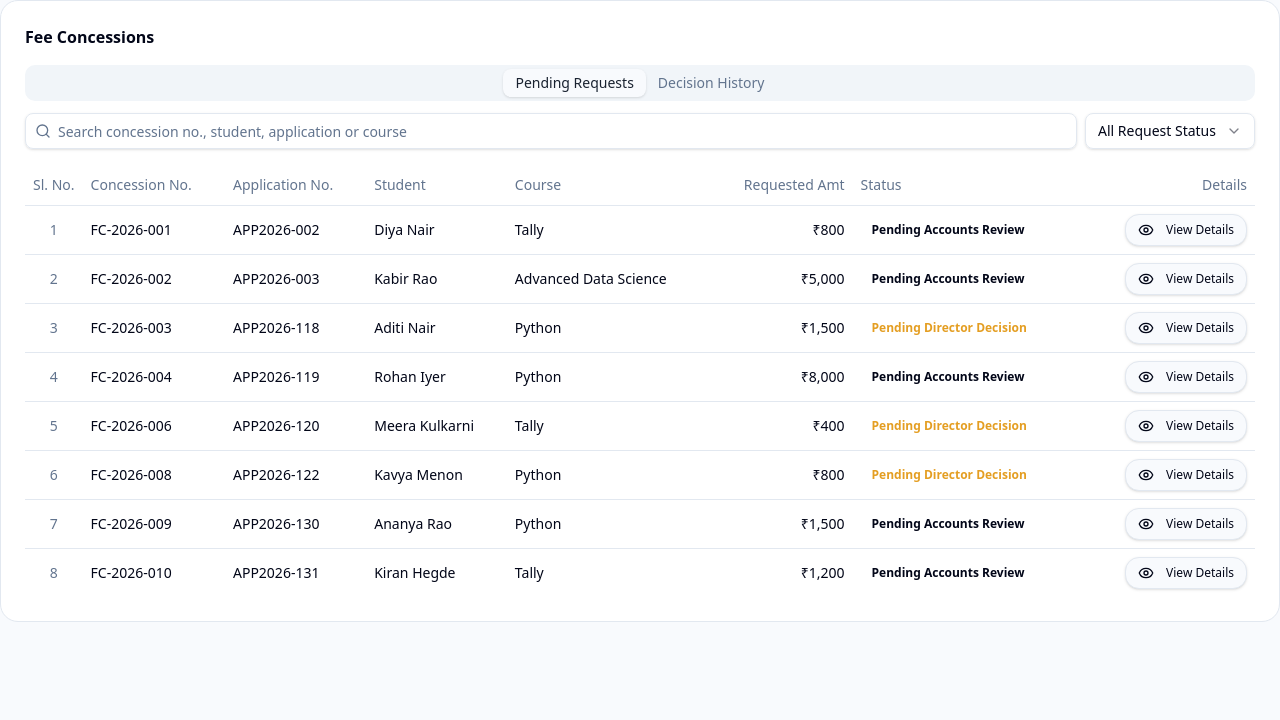
Scenario: Fee Concessions UI › shows Director decisions, requested and approved amounts, and comments in history
Press the mouse on the tab "Decision History" at (711, 83), box [646,69,776,97]
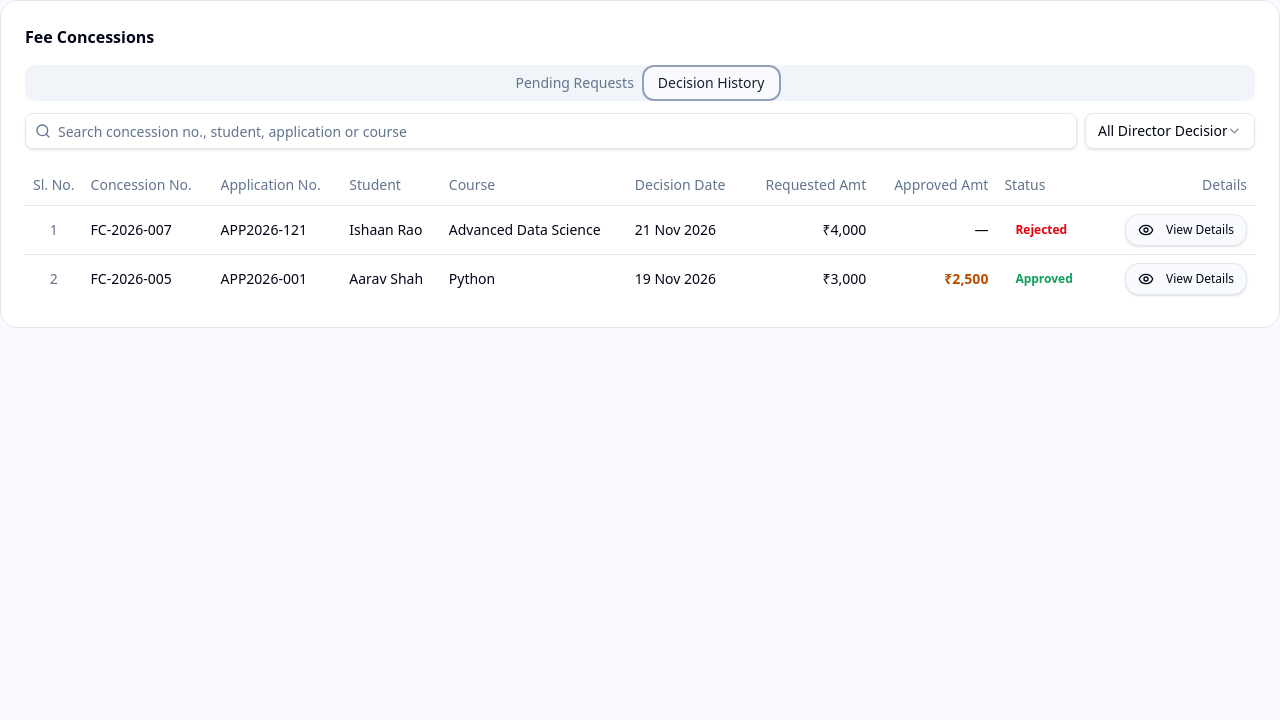
Expected: the text "FC-2026-005" is shown, [91,268,172,288]
Expected: the cell "₹3,000" is shown, [745,254,874,302]
Expected: the cell "₹2,500" is shown, [874,254,996,302]
Click the button "View Details" in the row of "FC-2026-007" at (1186, 230), box [1125,214,1247,246]
(page scrolled)
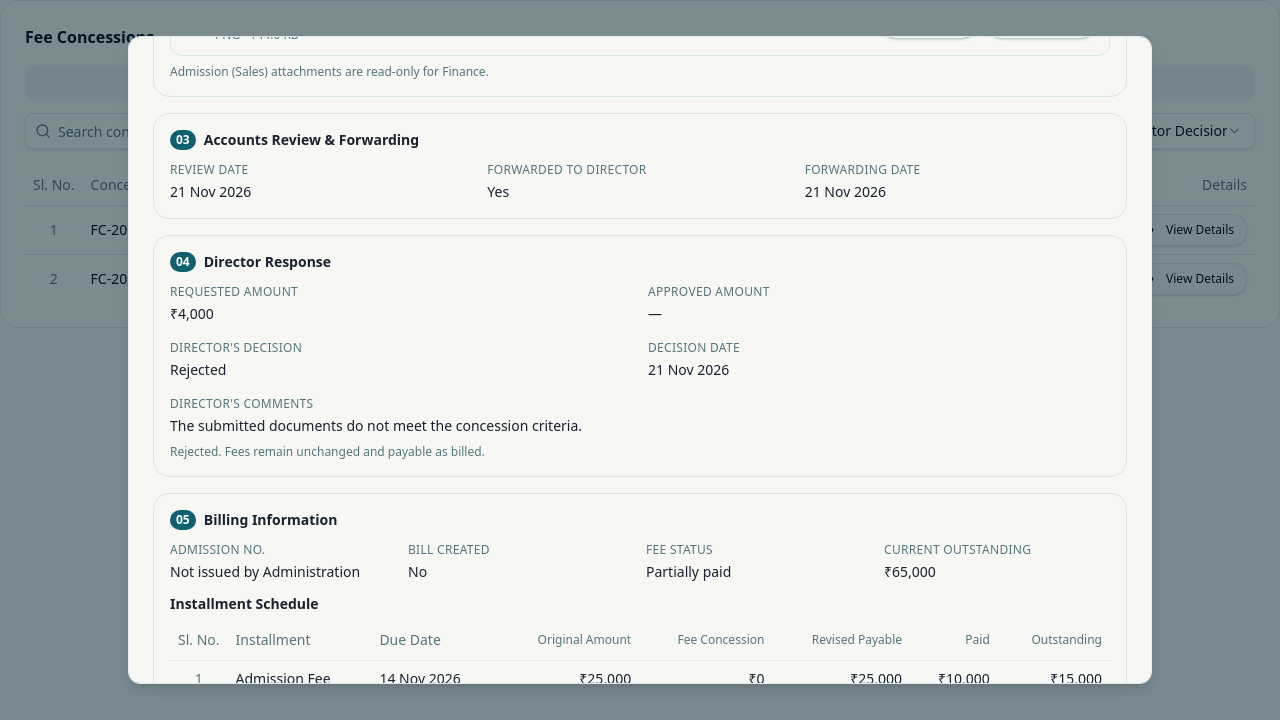
Expected: the heading "04 Director Response" is shown, [170,252,331,272]
Expected: the text "Decision Date" is shown, [648,339,740,356]
